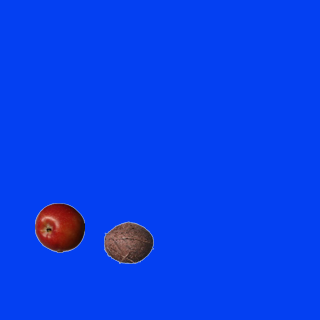Apple Braeburn: (34, 202, 84, 252)
Cocos: (103, 217, 153, 267)
